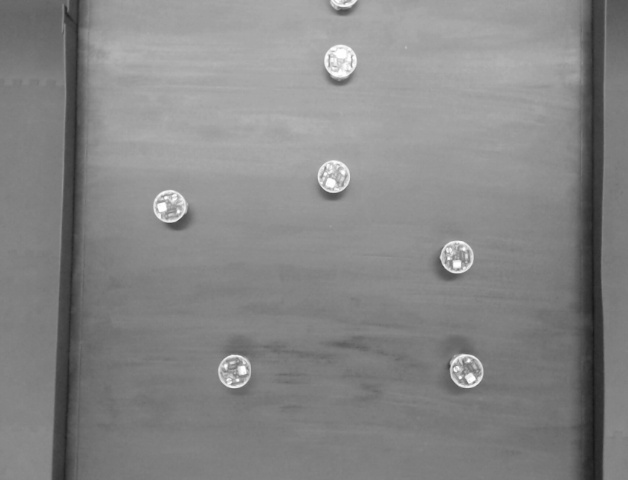epuck_2: (432, 228, 482, 282), (317, 40, 364, 88), (314, 154, 361, 200), (151, 186, 194, 232), (214, 350, 260, 391), (447, 353, 490, 391), (324, 1, 372, 22)
